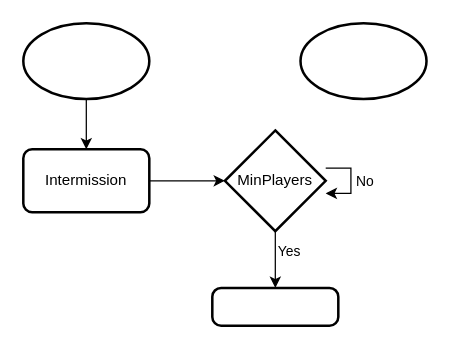
Some shapes in this 449 by 348 pixel diagram are drawn without their labels. Each missing label, with the box of its shape:
Start: (21, 21, 150, 100)
Start Countdown: (210, 286, 339, 326)
